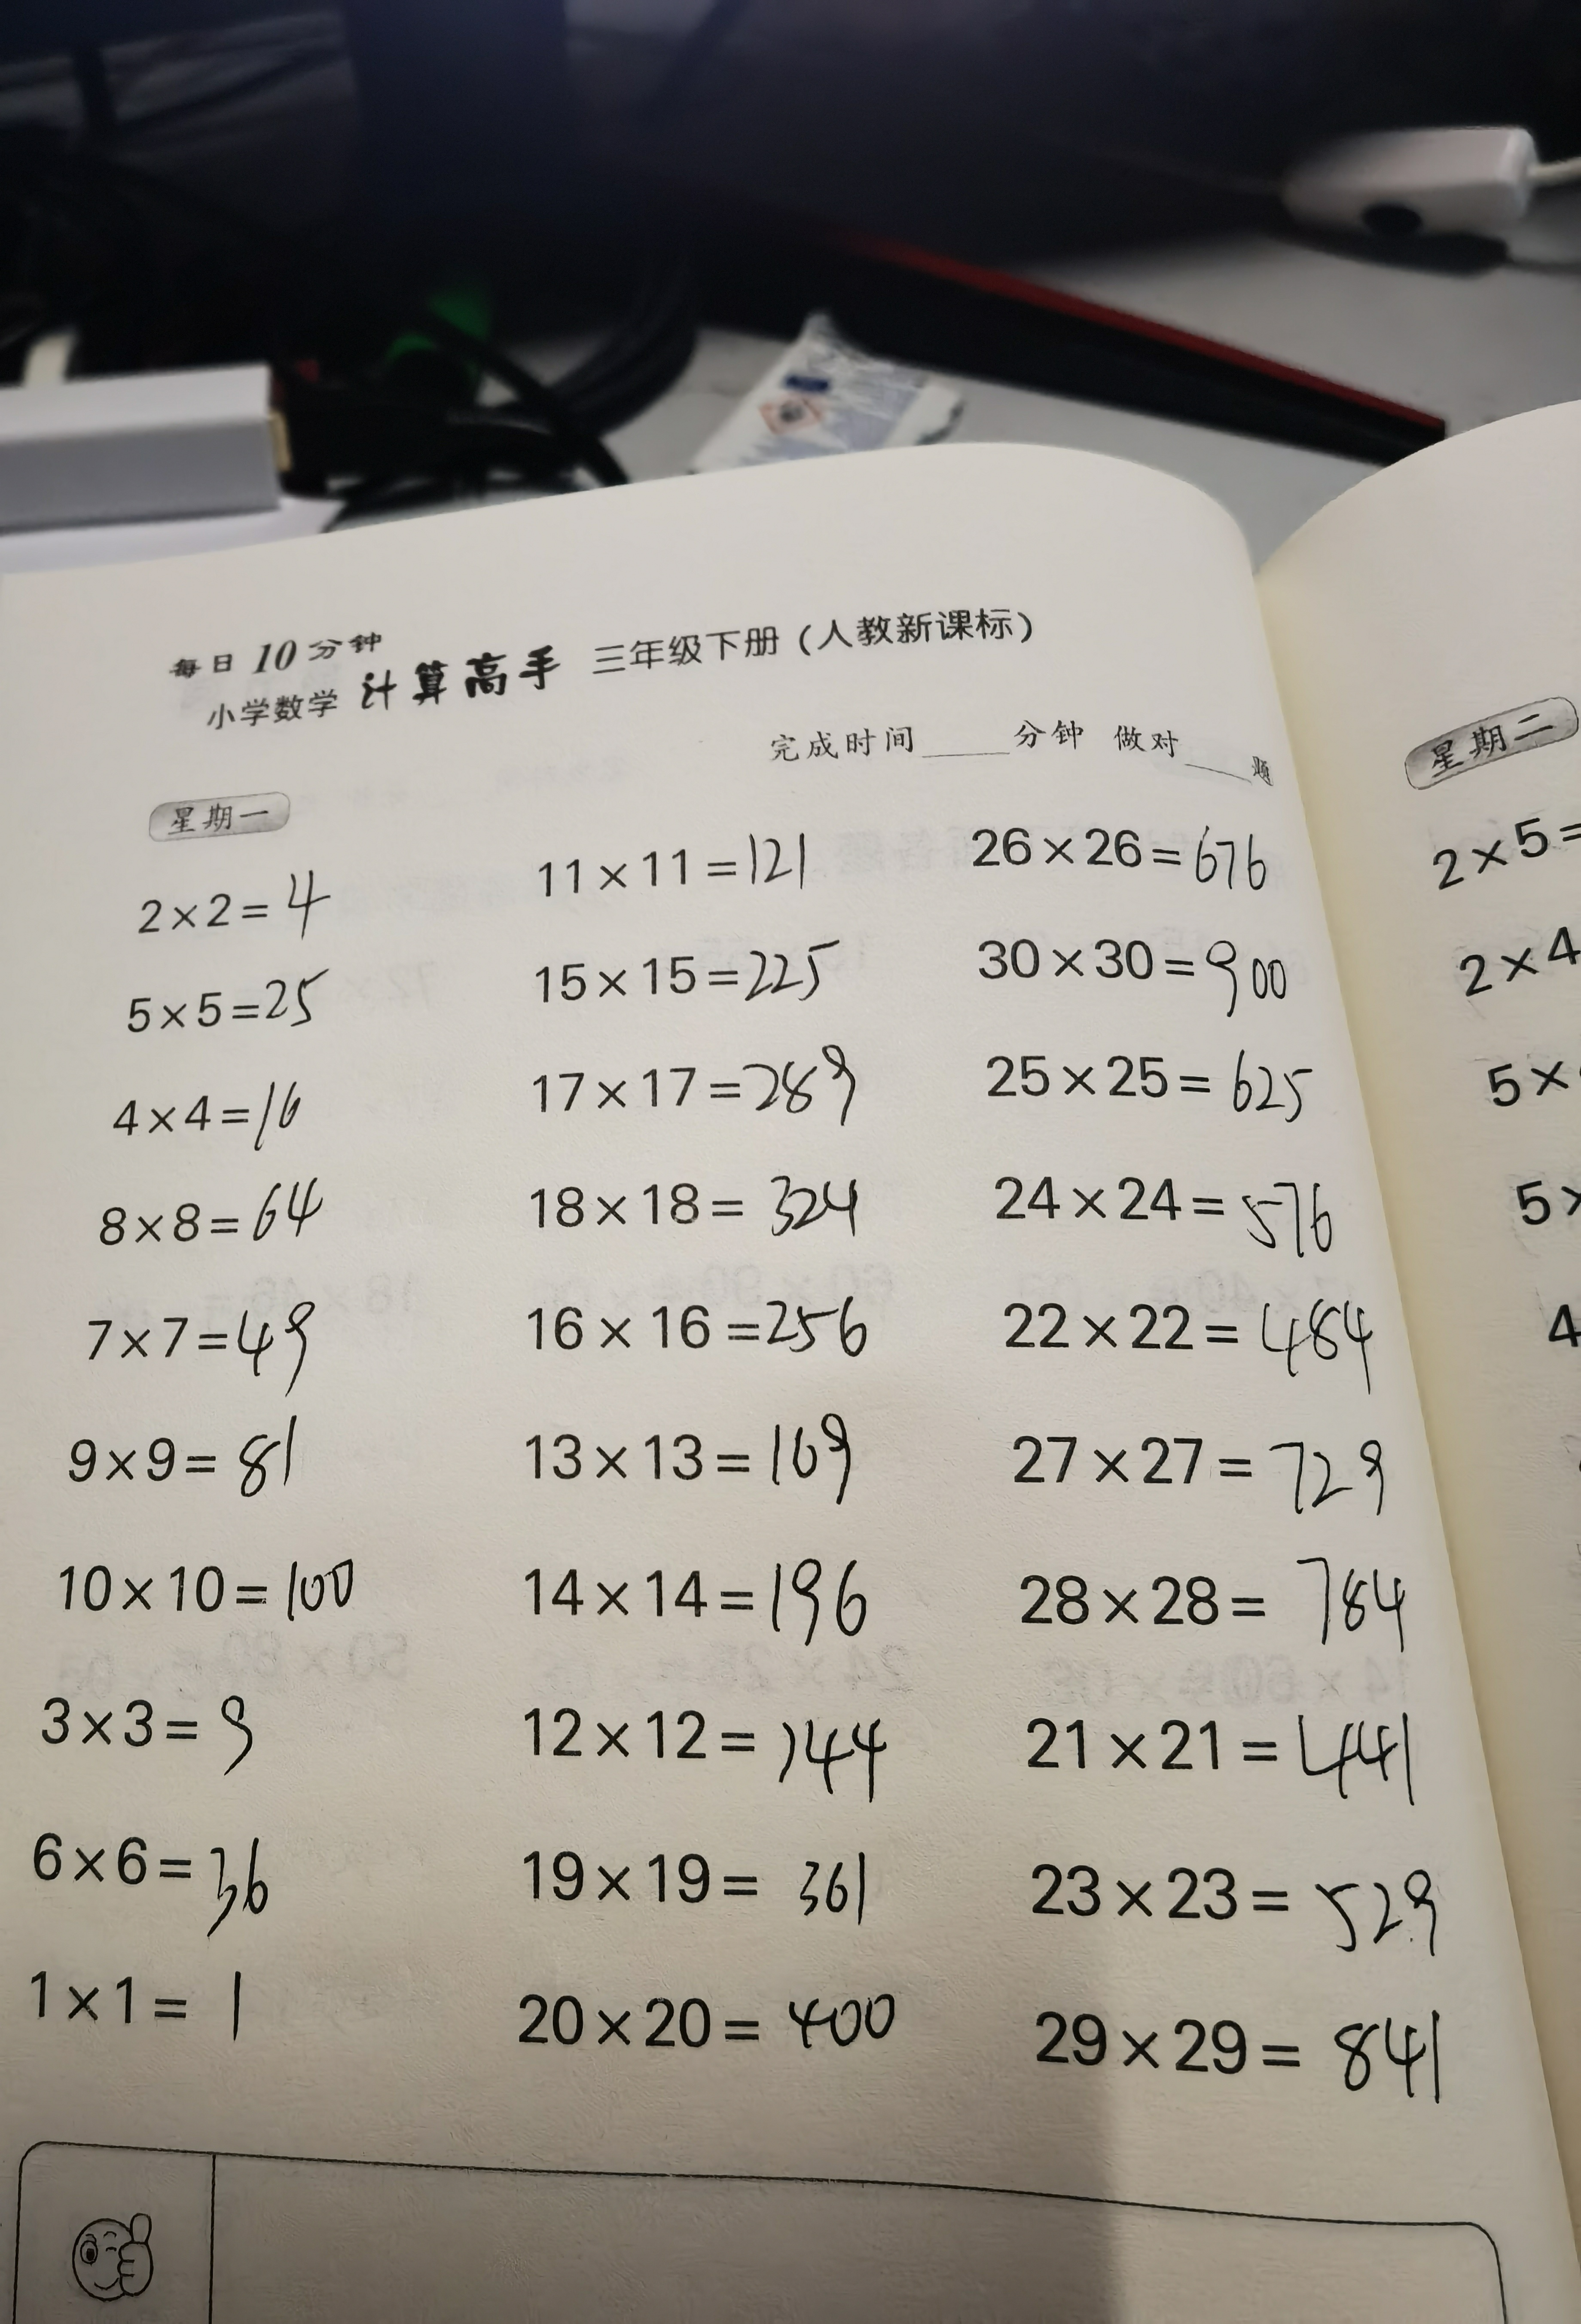equation: (498, 1960, 928, 2110), (1023, 1830, 1468, 1957), (1020, 1987, 1463, 2110), (508, 1683, 907, 1814), (512, 1826, 916, 1945), (521, 1398, 882, 1528), (1018, 1696, 1452, 1803), (997, 1553, 1427, 1661), (969, 1165, 1382, 1271), (503, 1553, 907, 1661), (999, 1417, 1417, 1518), (30, 1530, 383, 1645), (955, 914, 1320, 1016), (476, 1285, 880, 1376), (978, 1031, 1366, 1124), (985, 1290, 1387, 1380), (512, 1034, 884, 1128), (521, 1165, 889, 1256), (963, 794, 1290, 896), (48, 1408, 341, 1514), (23, 1821, 311, 1925), (69, 1279, 344, 1387), (18, 1950, 268, 2059), (517, 933, 852, 1011), (35, 1675, 305, 1770), (94, 856, 362, 944), (522, 826, 842, 893), (74, 1189, 360, 1263), (88, 965, 346, 1046), (81, 1076, 353, 1143)
